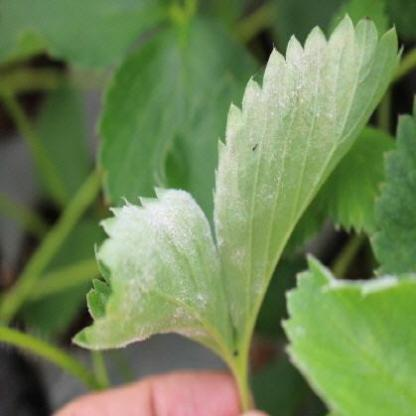Strawberry_Powdery_Mildew_Leaf: (212, 11, 404, 356), (72, 186, 235, 362)
